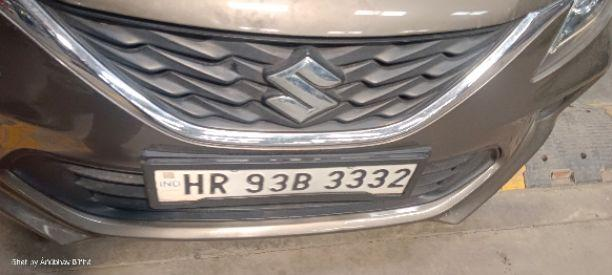license_plate: (0, 0, 611, 244), (140, 145, 424, 210)
